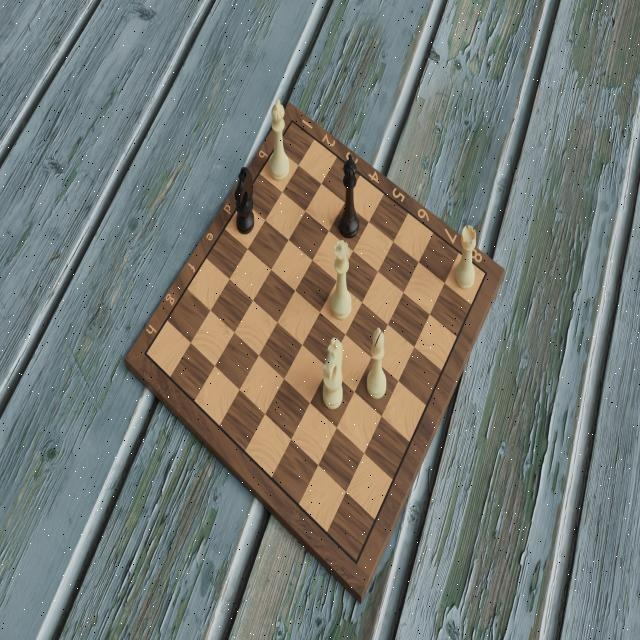black-king: (337, 154, 362, 240)
black-knight: (232, 160, 256, 240)
white-bishop: (363, 323, 391, 407)
white-king: (266, 95, 290, 183)
white-knight: (319, 335, 347, 416)
white-queen: (326, 239, 357, 325)
white-rook: (451, 222, 480, 294)
